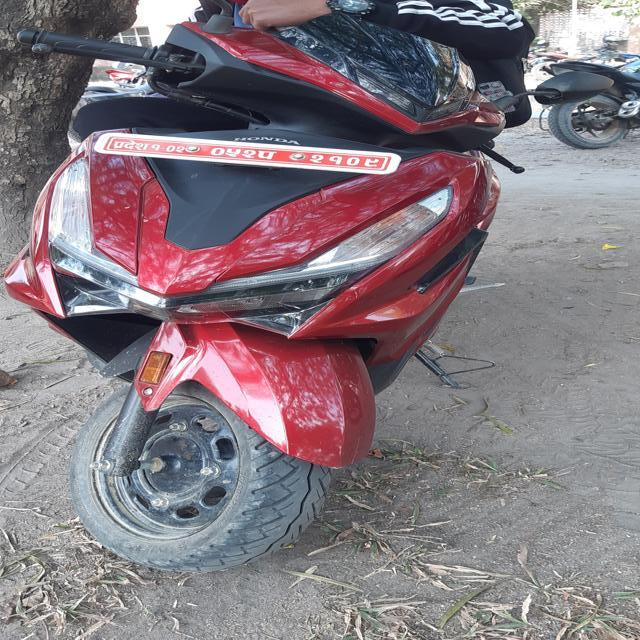license_plate: (61, 124, 516, 193)
